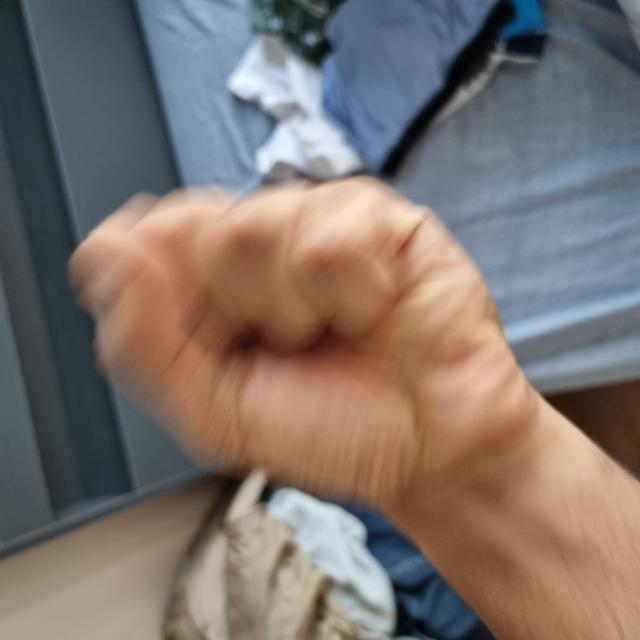Rock: (131, 78, 462, 516)
